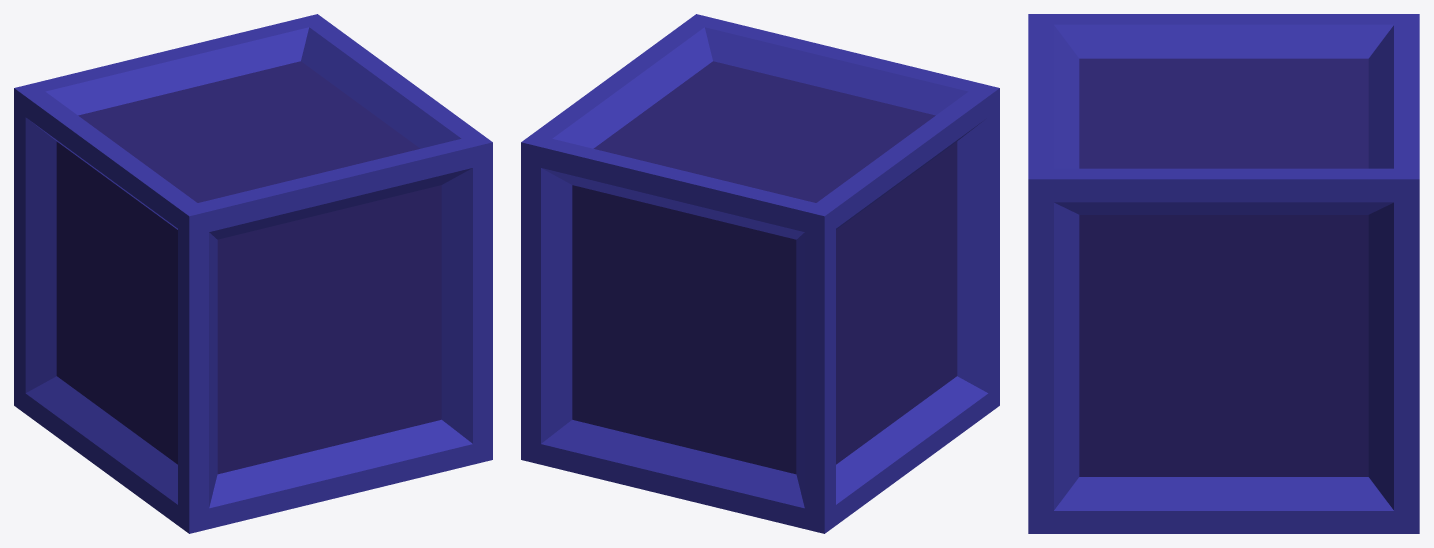
Rendered from boostBox.fbx.
The picture shows the model from 3 angles, left to right: view 1: azimuth 30°, elevation 25°; view 2: azimuth 150°, elevation 25°; view 3: azimuth 270°, elevation 25°; orthographic projection. The views are drawn at different scales.
Visible parts, largest first — view 1: Cube.004; view 2: Cube.004; view 3: Cube.004.
Boxes of the visible parts, <box> form: Cube.004: <box>14,14,492,533</box>; Cube.004: <box>521,14,999,533</box>; Cube.004: <box>1028,14,1419,533</box>.
Size of the model in its own units: 230 by 230 by 230.
